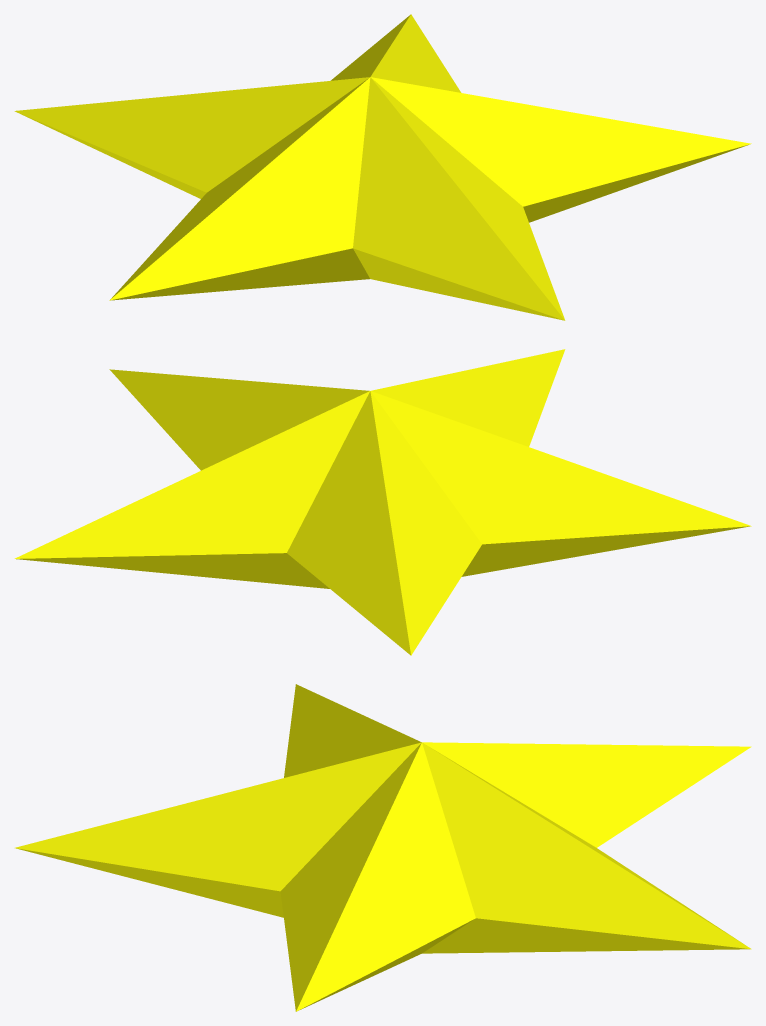
File: item_star.fbx
The picture shows the model from 3 angles, top to bottom: view 1: azimuth 30°, elevation 25°; view 2: azimuth 150°, elevation 25°; view 3: azimuth 270°, elevation 25°; orthographic projection. The views are drawn at different scales.
Visible parts, largest first — view 1: Mesh1; view 2: Mesh1; view 3: Mesh1.
Part boxes in pixels (bbox=[...]): Mesh1: bbox=[14, 14, 751, 320]; Mesh1: bbox=[14, 349, 751, 655]; Mesh1: bbox=[15, 684, 751, 1011].
Bounding box in the file's own units: 18.61 × 5.59 × 17.7.
